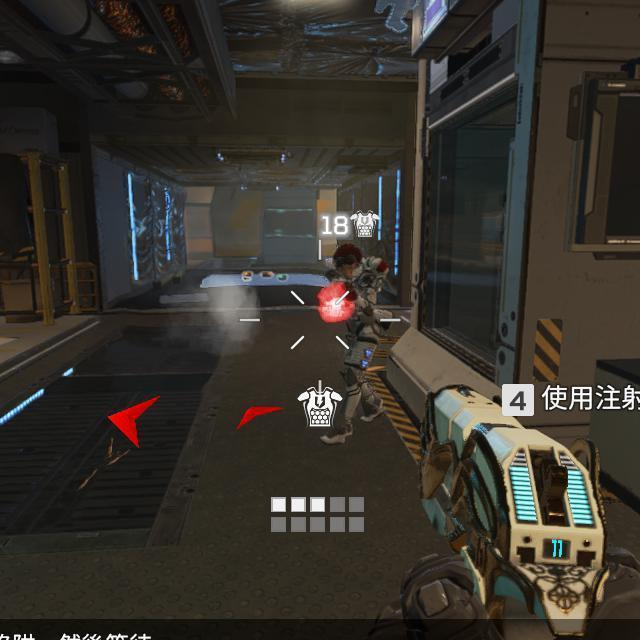avatar: (317, 244, 396, 446)
object: (317, 280, 355, 325)
